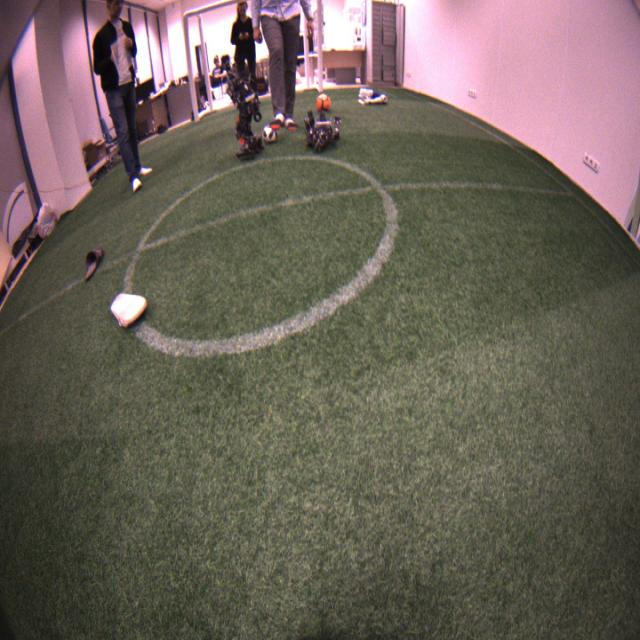ball: (316, 93, 331, 112), (263, 126, 277, 146)
goalpost: (180, 11, 200, 121), (317, 2, 323, 90)
